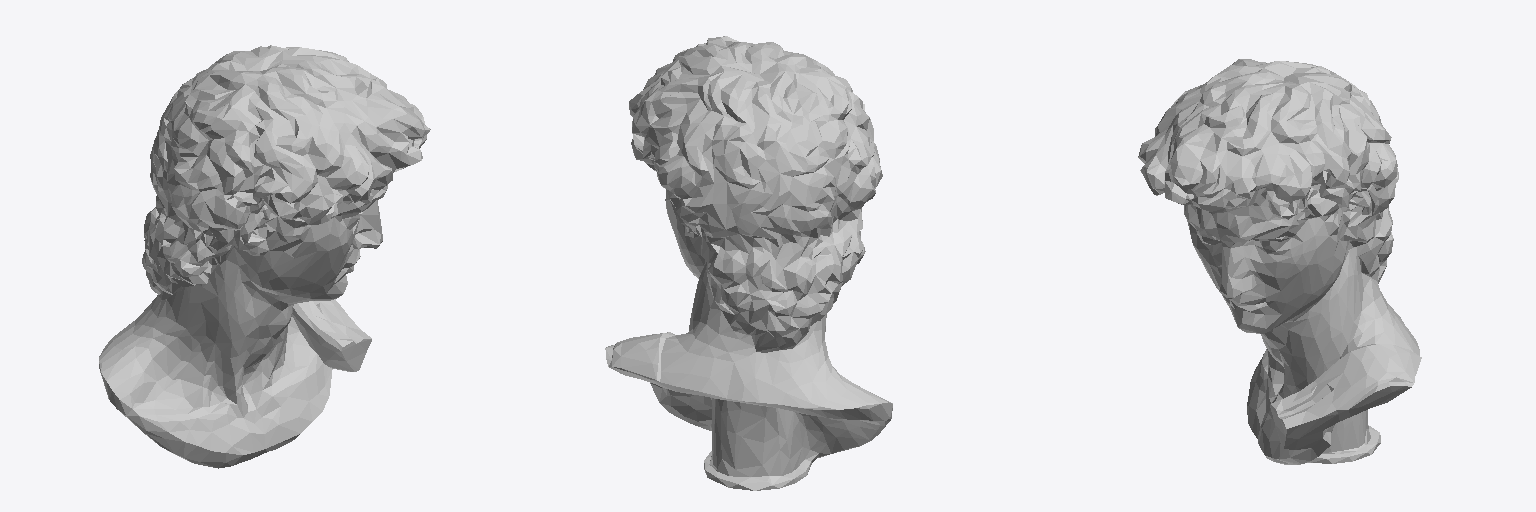
The model's file is david5perc.obj.
The picture shows the model from 3 angles: view 1: azimuth 30°, elevation 25°; view 2: azimuth 150°, elevation 25°; view 3: azimuth 270°, elevation 25°; orthographic projection.
Bounding box in the file's own units: 147 × 200 × 134.